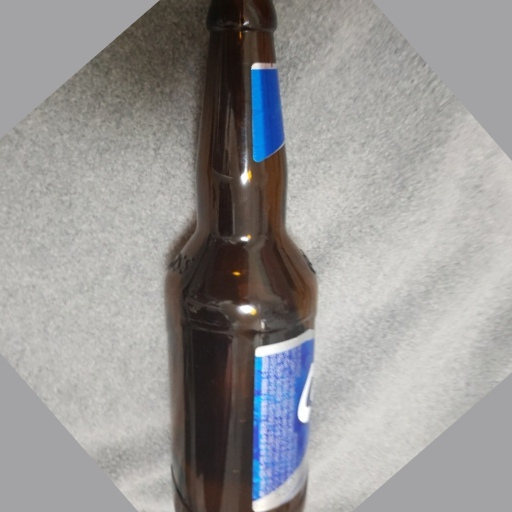Glass_1: (165, 1, 318, 512)
